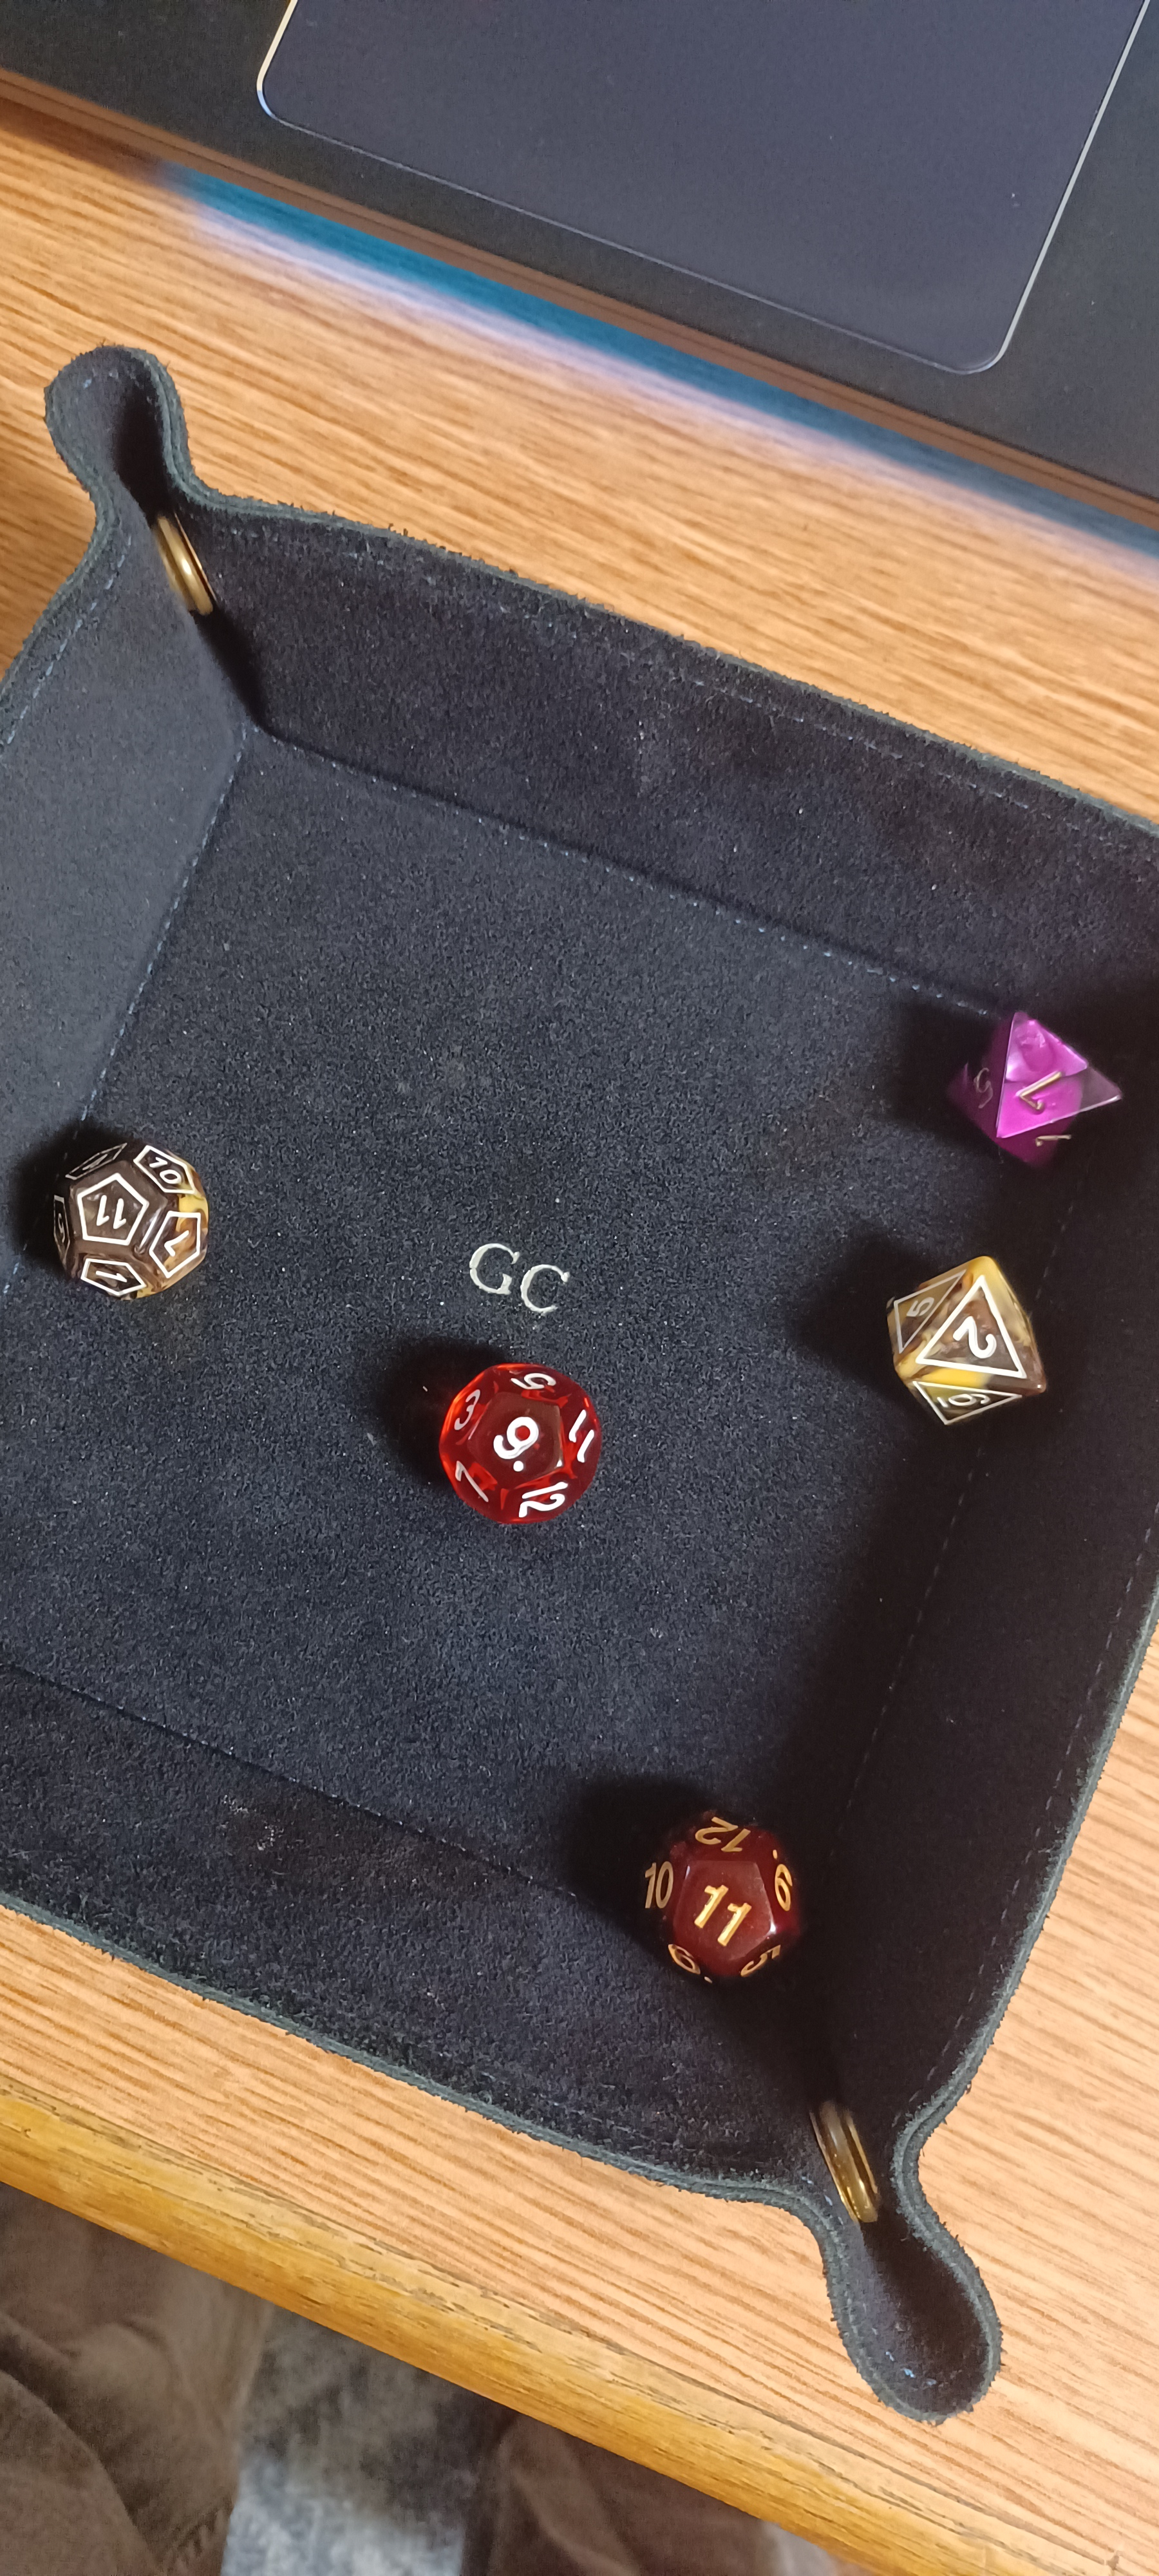eleven: (598, 1779, 836, 2012), (34, 1102, 236, 1321)
nine: (401, 1327, 645, 1556)
seven: (911, 977, 1149, 1186)
two: (867, 1226, 1079, 1470)
